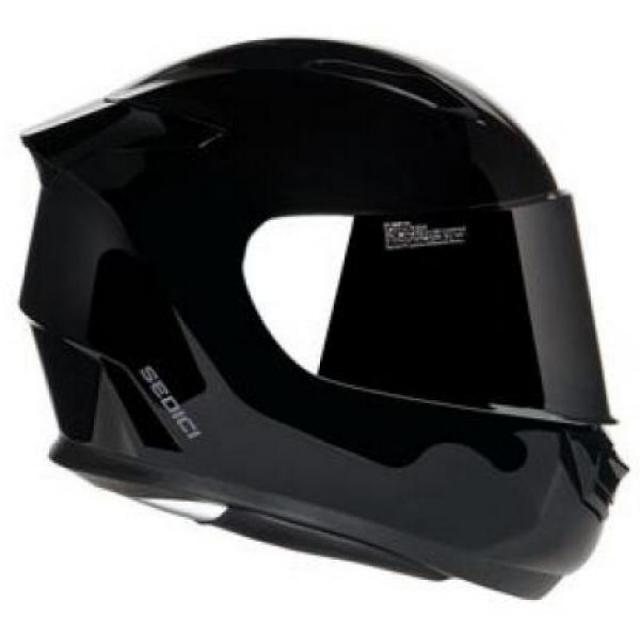Helmet: (20, 35, 618, 566)
